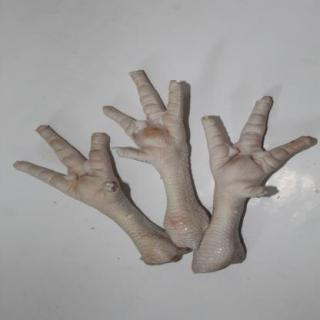Ayam: (16, 71, 317, 276), (15, 127, 185, 266), (194, 98, 318, 276), (104, 71, 215, 249)
